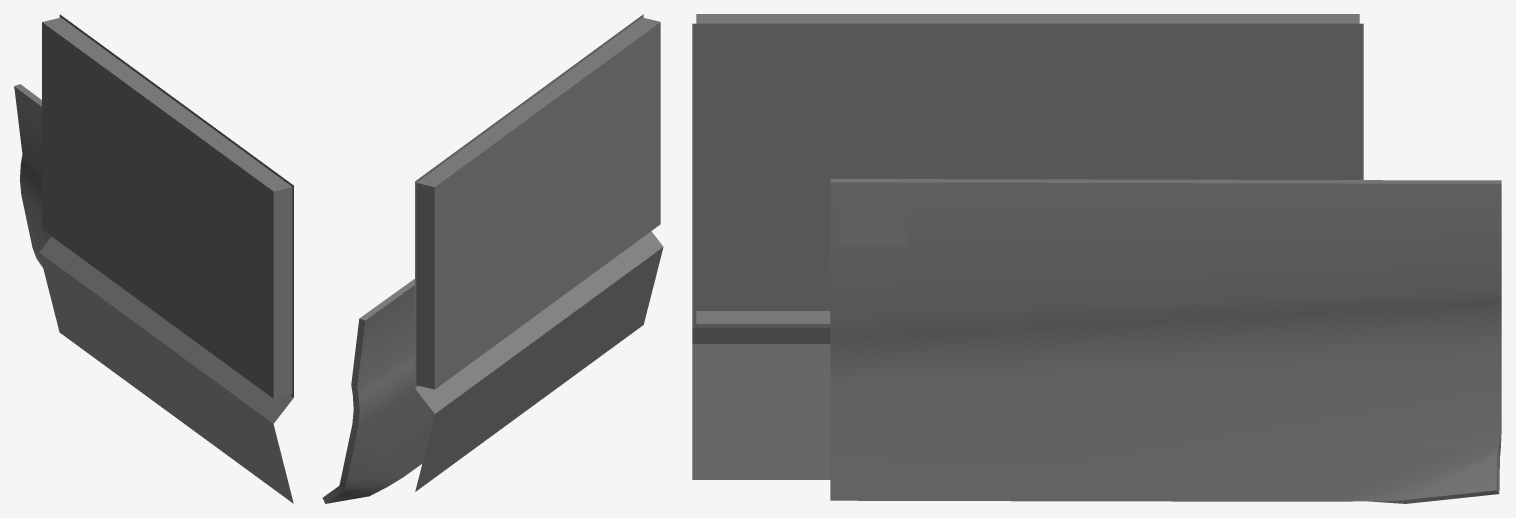
Rendered from q-scifi-mod-wallband-straight-broken.glb.
3 renders of one model, left to right at view 1: azimuth 30°, elevation 25°; view 2: azimuth 150°, elevation 25°; view 3: azimuth 270°, elevation 25°, orthographic. The views are drawn at different scales.
Visible parts, largest first — view 1: WallBand_Straight_Broken; view 2: WallBand_Straight_Broken; view 3: WallBand_Straight_Broken.
Boxes of the visible parts, <box> form: WallBand_Straight_Broken: <box>14,14,293,503</box>; WallBand_Straight_Broken: <box>322,14,663,503</box>; WallBand_Straight_Broken: <box>692,14,1501,503</box>.
Size of the model in its own units: 0.679 by 3.01 by 4.82.
3 materials, 3 textured.
